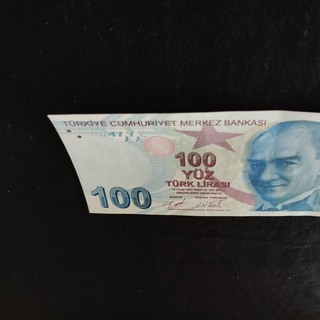100TLFront: (47, 109, 320, 217)
